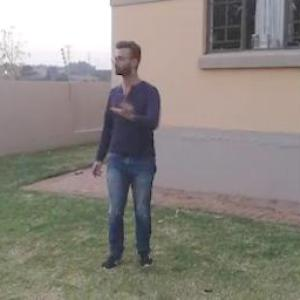land_hand: (108, 87, 139, 125)
